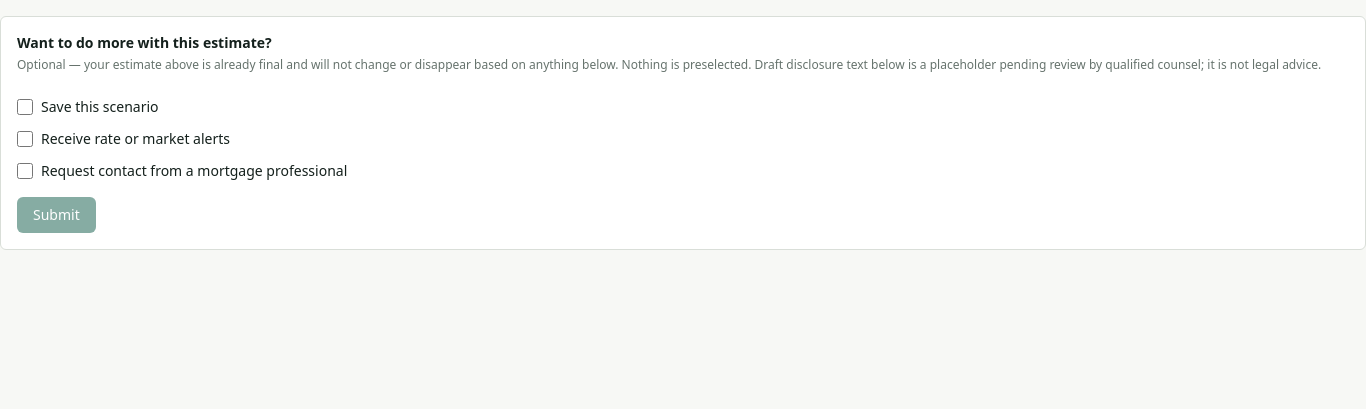
Test case: LeadCaptureSection › keeps submit disabled until at least email or phone is entered
This screenshot has width=1366, height=409.
Click the checkbox labelled "Save this scenario". click: x=25, y=107
box: [17,99,33,115]
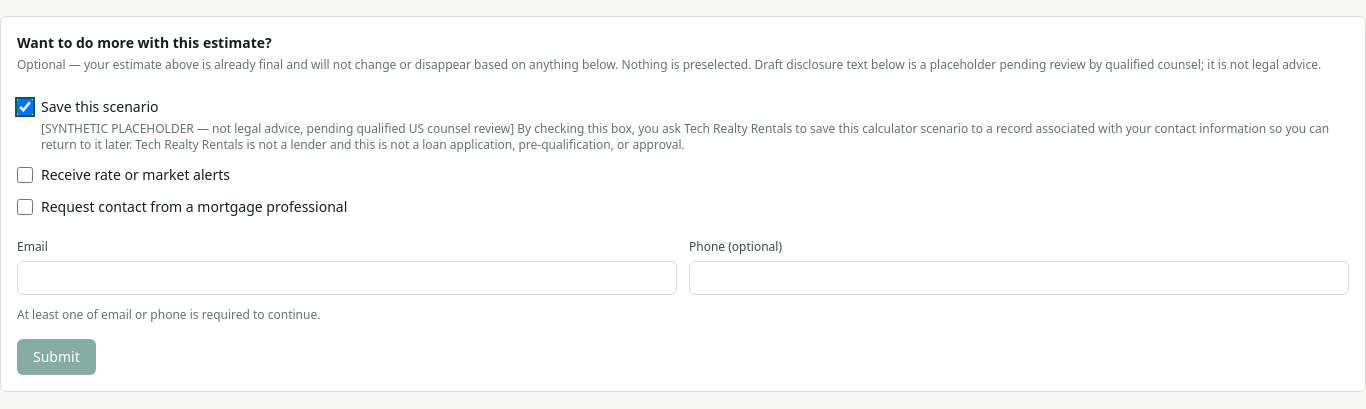
Expected: the button "Submit" is disabled, [17,339,96,375]
Type "buyer@example.test" into the field labelled "Email". click: x=347, y=278
box: [17,261,677,295]
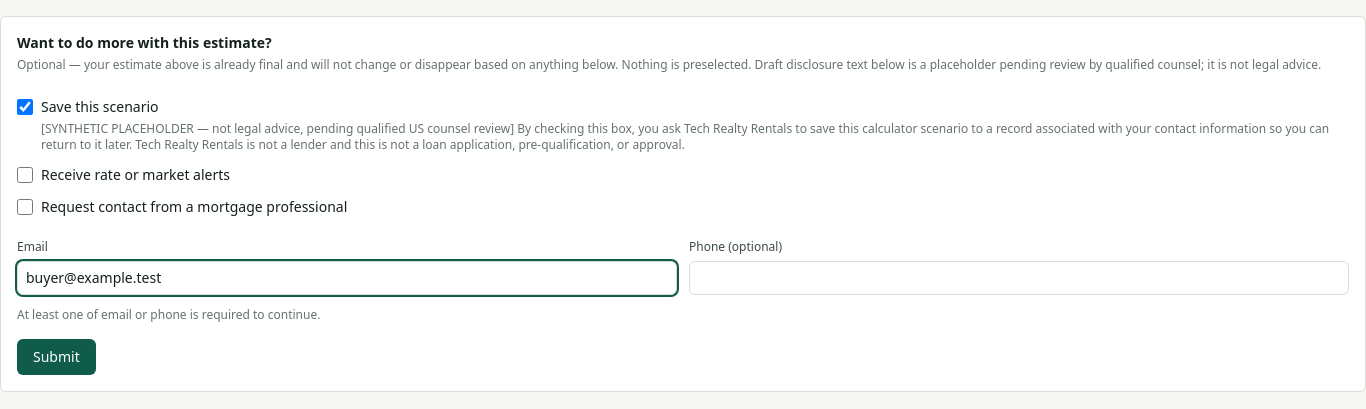
Expected: the button "Submit" is enabled, [17,339,96,375]
